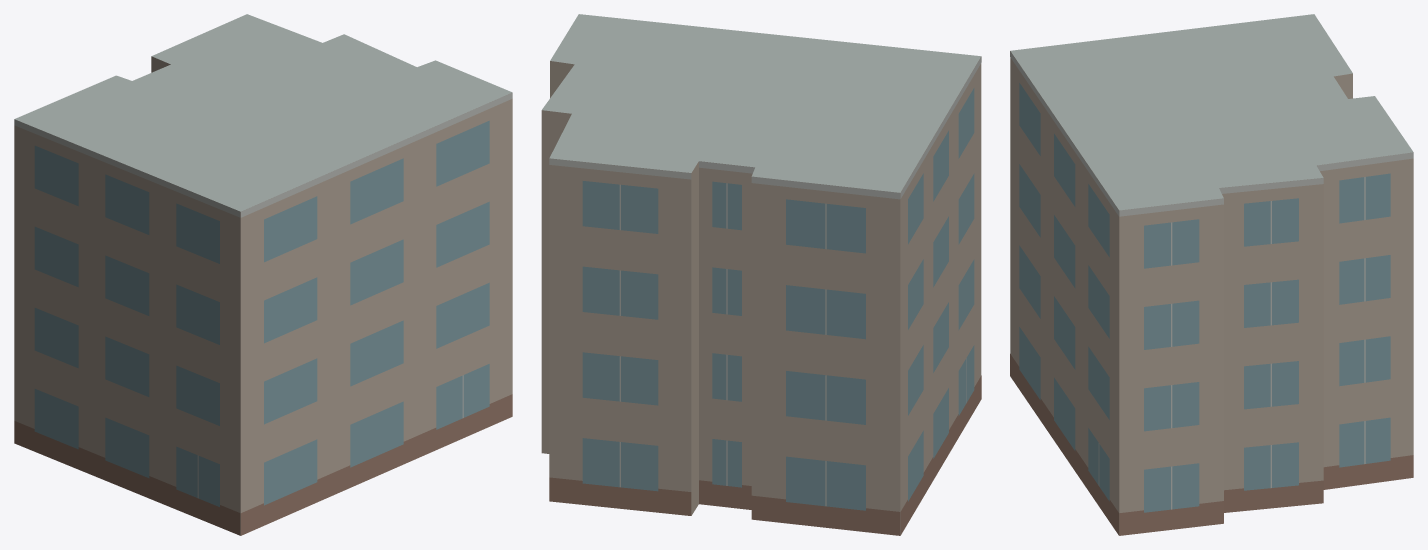
The model's file is survey-upis-32942102.glb.
3 views of the same model, side by side, from view 1: azimuth 30°, elevation 25°; view 2: azimuth 150°, elevation 25°; view 3: azimuth 270°, elevation 25° (orthographic). The views are drawn at different scales.
Parts seen in each view (by area): view 1: survey-upis-32942102.tmp; view 2: survey-upis-32942102.tmp; view 3: survey-upis-32942102.tmp.
Part boxes in pixels (x1,y1,x2,y2): survey-upis-32942102.tmp: (14,14,512,535); survey-upis-32942102.tmp: (541,14,981,535); survey-upis-32942102.tmp: (1010,14,1413,535).
Size of the model in its own units: 16.59 by 12.8 by 14.4.
